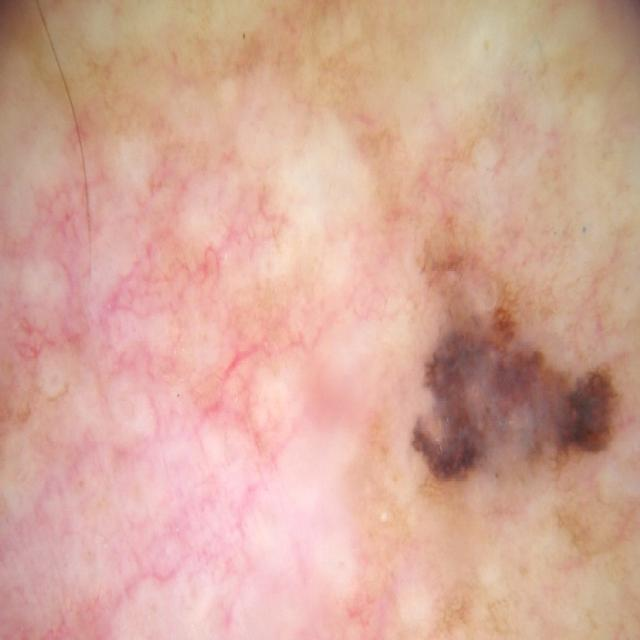Melanoma: (366, 272, 640, 482)
